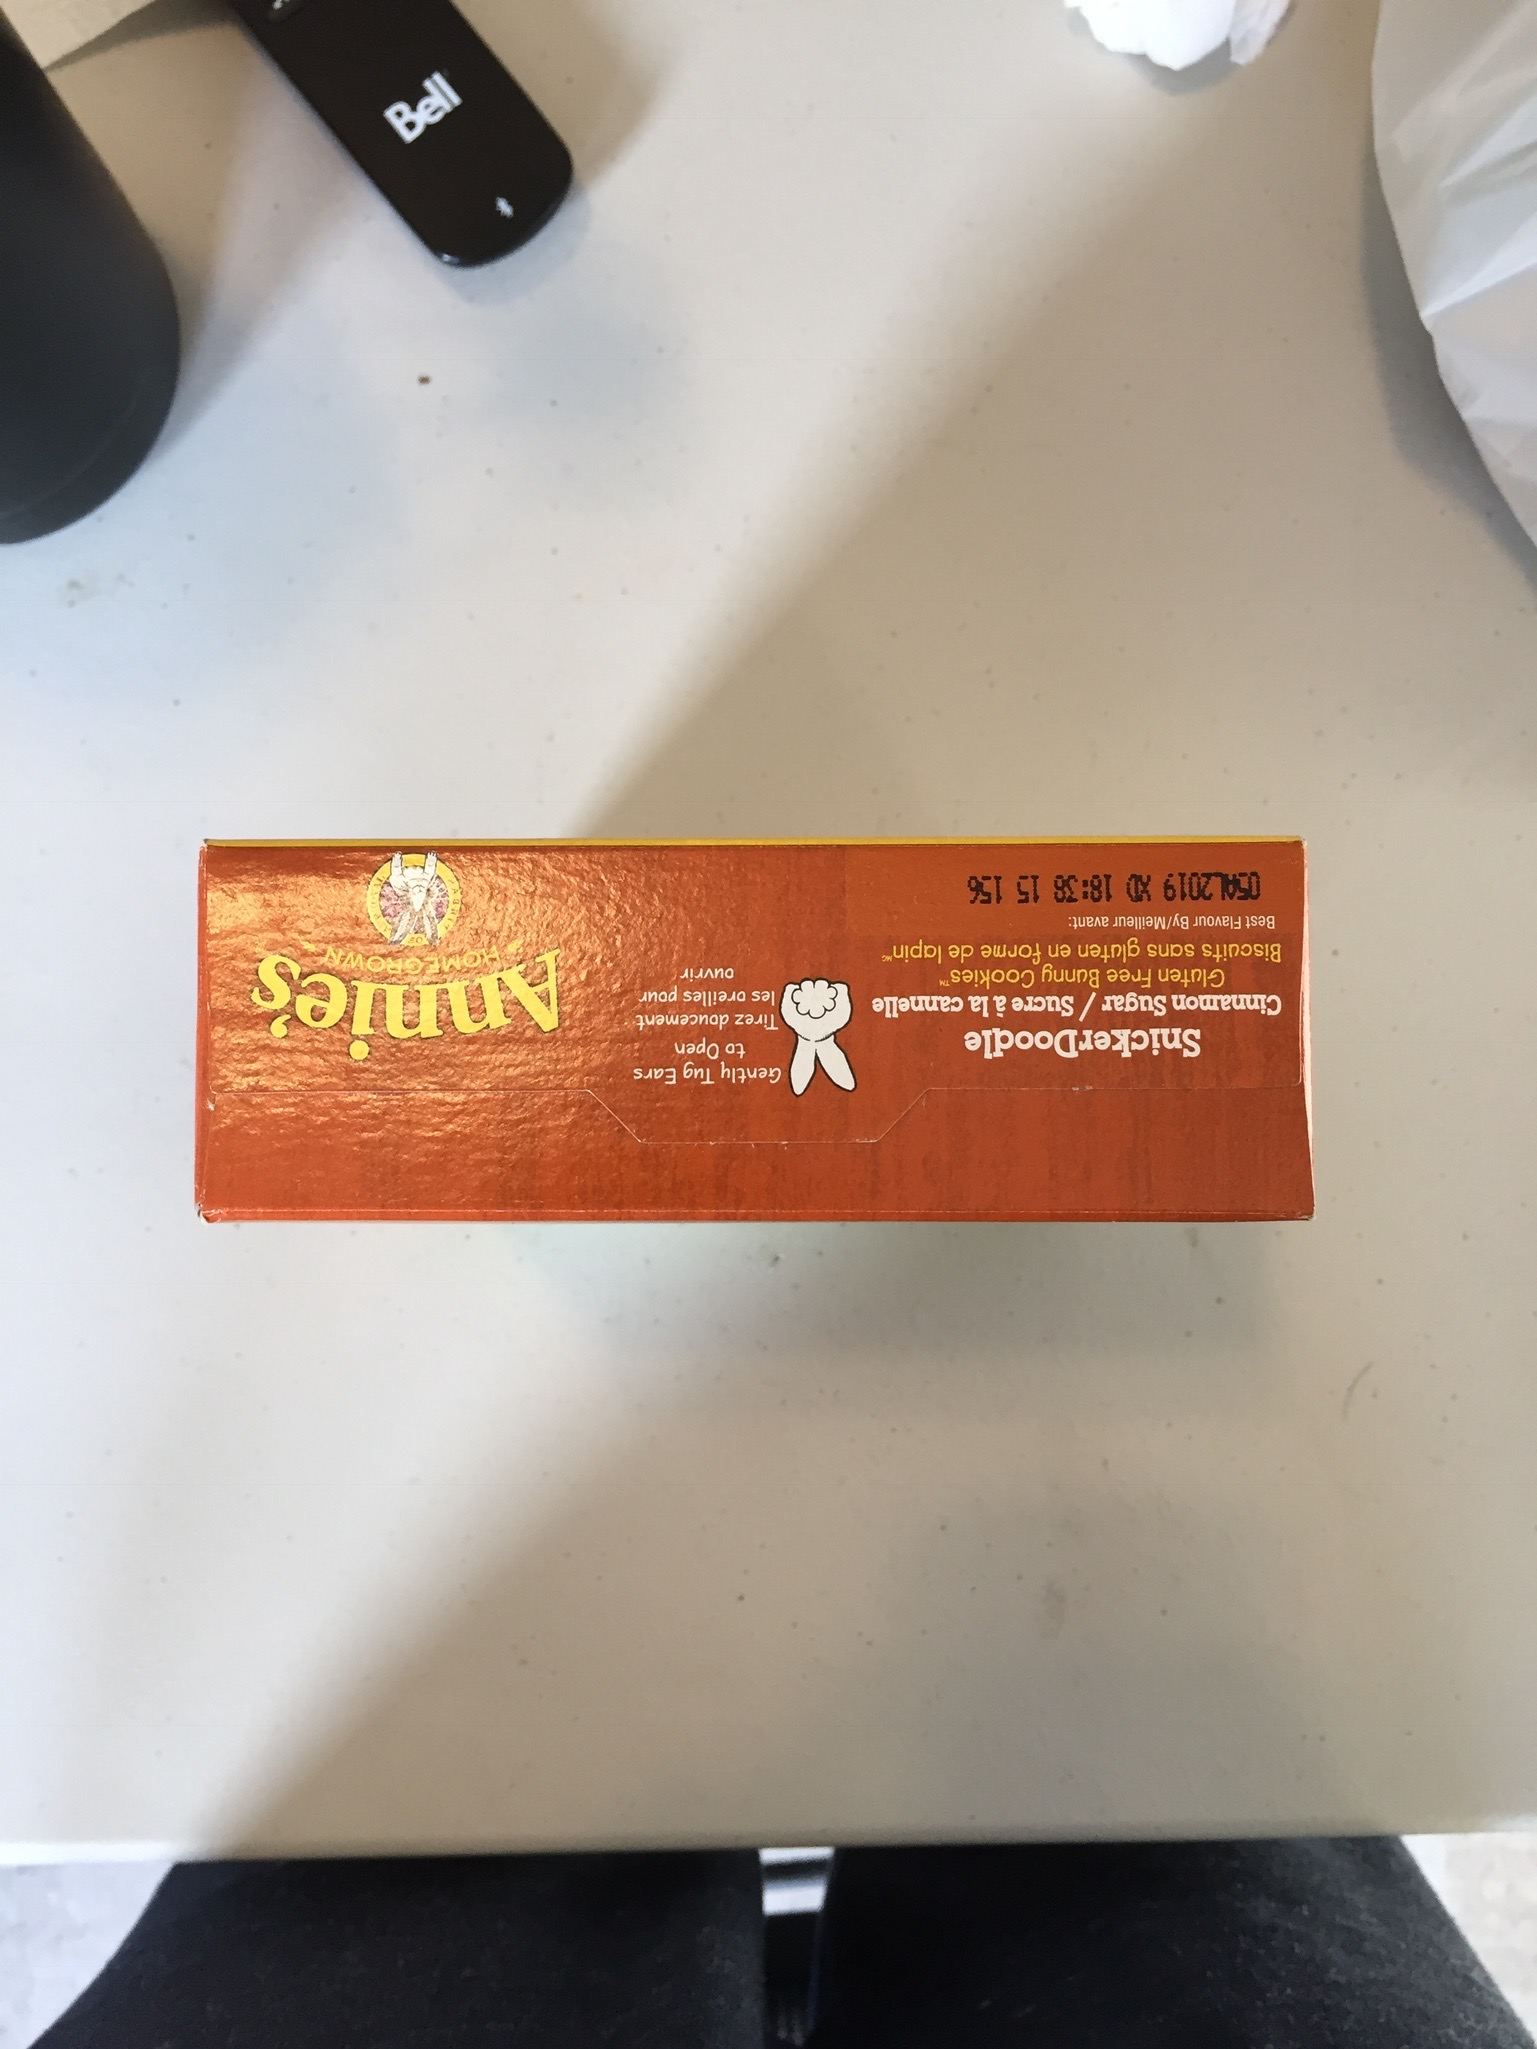annies_snickerdoodles_cinnamon_sugar: (207, 844, 1292, 1216)
